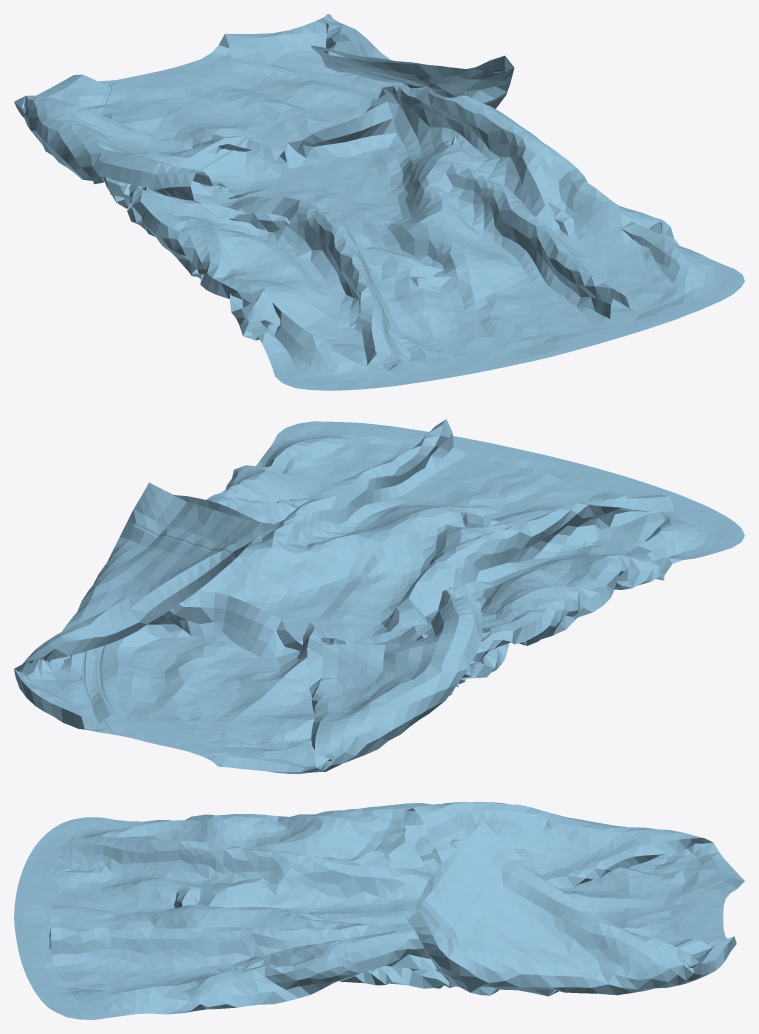
File: frame_17.glb
3 views of the same model, one above another, from view 1: azimuth 30°, elevation 25°; view 2: azimuth 150°, elevation 25°; view 3: azimuth 270°, elevation 25° (orthographic). The views are drawn at different scales.
Visible parts, largest first — view 1: frame_17.obj; view 2: frame_17.obj; view 3: frame_17.obj.
Part boxes in pixels (x1,y1,x2,y2): frame_17.obj: (14, 14, 744, 390); frame_17.obj: (14, 419, 744, 773); frame_17.obj: (14, 802, 744, 1019).
Size of the model in its own units: 1.19 by 0.317 by 1.81.
